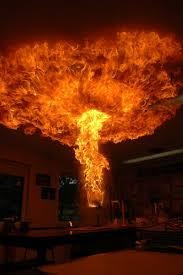fire: (5, 26, 181, 210)
